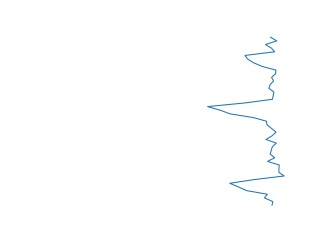underwaterNaturalLevee: (203, 36, 289, 207)
